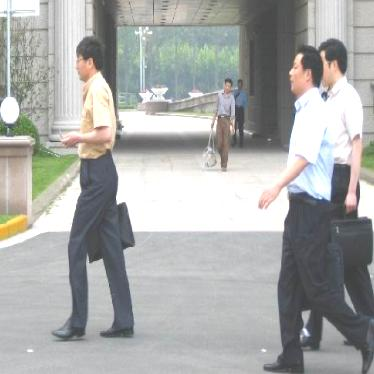ped: (258, 44, 374, 372), (54, 36, 136, 339), (211, 80, 235, 171)
